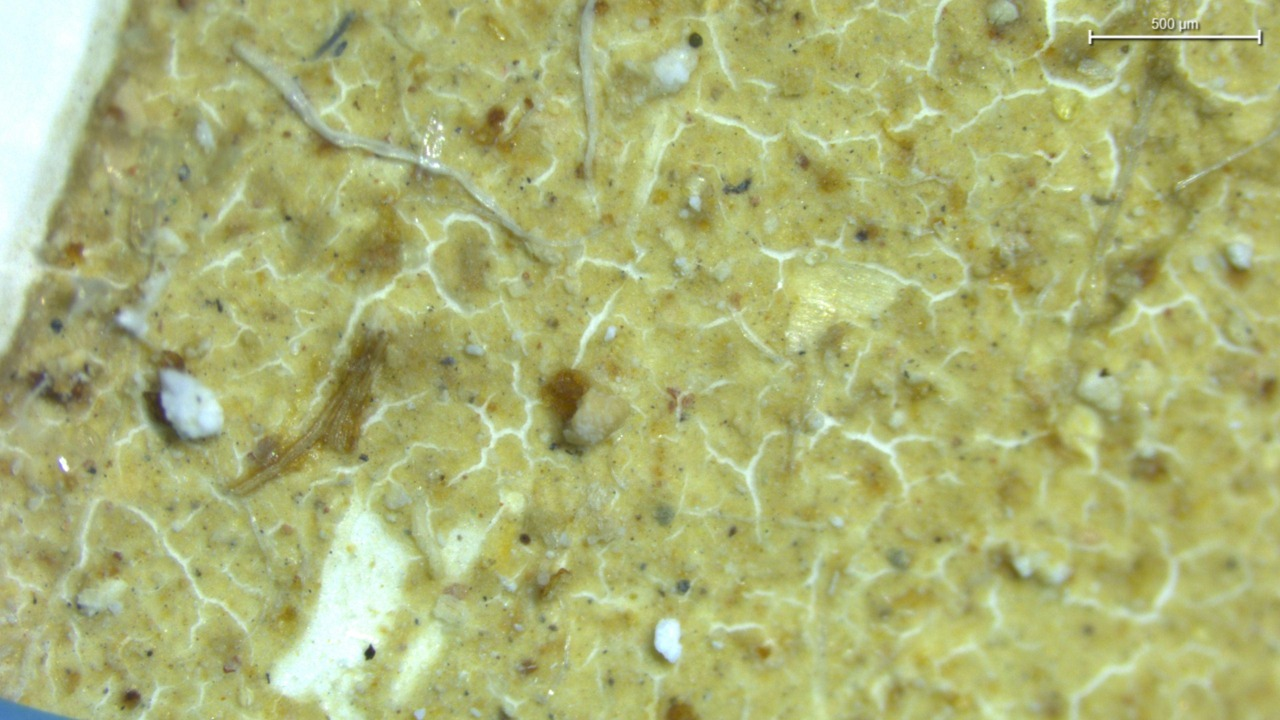microplastic_fragment: (159, 368, 223, 440), (653, 46, 694, 91), (654, 619, 682, 663)
